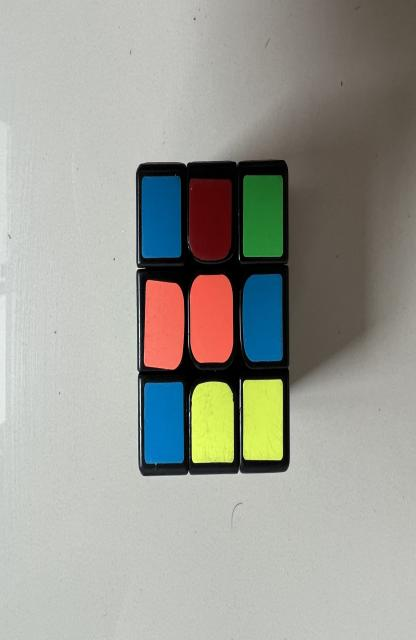Blue: (242, 273, 283, 362), (141, 175, 181, 258), (145, 382, 184, 463)
Green: (243, 175, 284, 257)
Orange: (189, 275, 233, 363), (144, 280, 184, 370)
Red: (188, 178, 232, 260)
Yellow: (192, 382, 234, 463), (243, 380, 283, 460)
